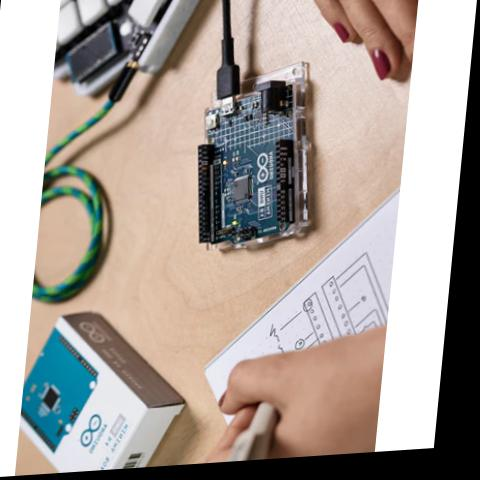Arduino-Uno: (188, 81, 315, 255)
